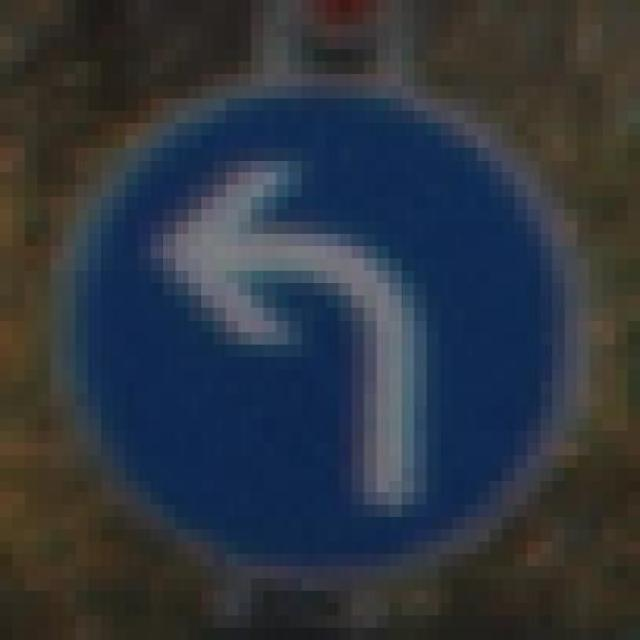Turn left ahead: (62, 86, 602, 566)
